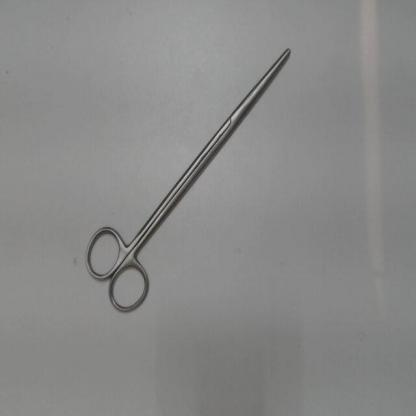9 Metzenbaum Scissors: (78, 44, 294, 322)
